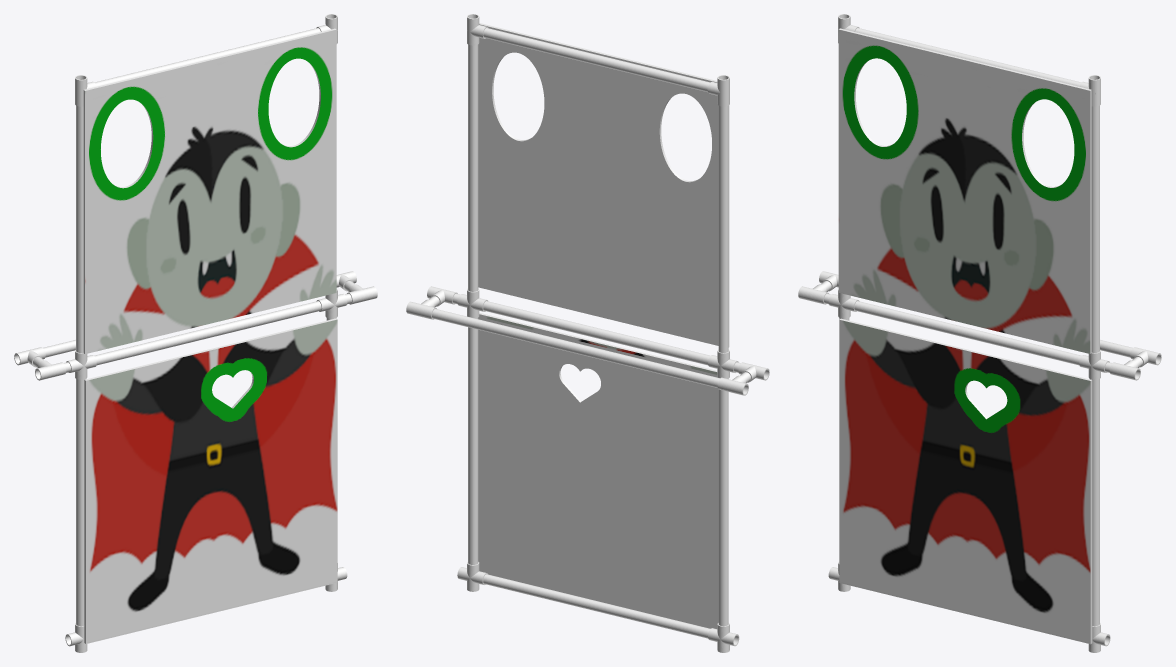
File: vampire_board.dae
3 renders of one model, left to right at view 1: azimuth 30°, elevation 25°; view 2: azimuth 150°, elevation 25°; view 3: azimuth 330°, elevation 25°, orthographic.
Parts seen in each view (by area): view 1: Vampire_Board; view 2: Vampire_Board; view 3: Vampire_Board.
Boxes of the visible parts, x1,y1,x2,y2 form: Vampire_Board: (14, 14, 377, 652); Vampire_Board: (406, 14, 769, 652); Vampire_Board: (798, 14, 1161, 652).
Bounding box in the file's own units: 0.8153 × 0.1212 × 1.33.
1 material, 1 textured.
